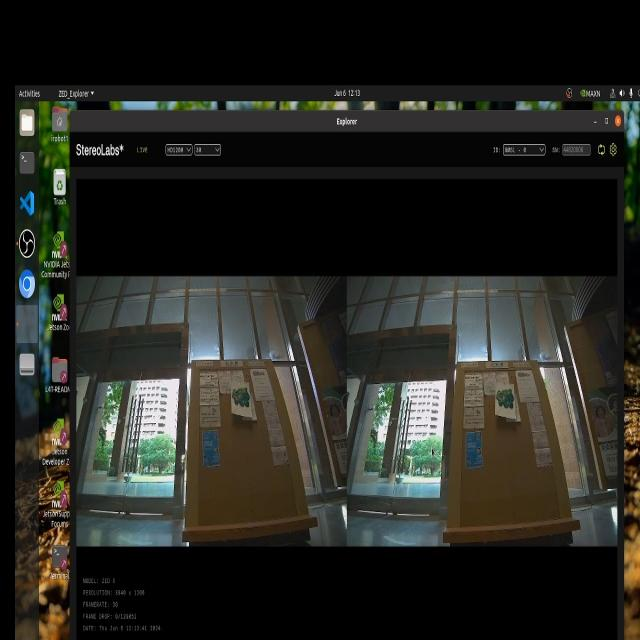green: (496, 382, 520, 428), (233, 381, 253, 419)
